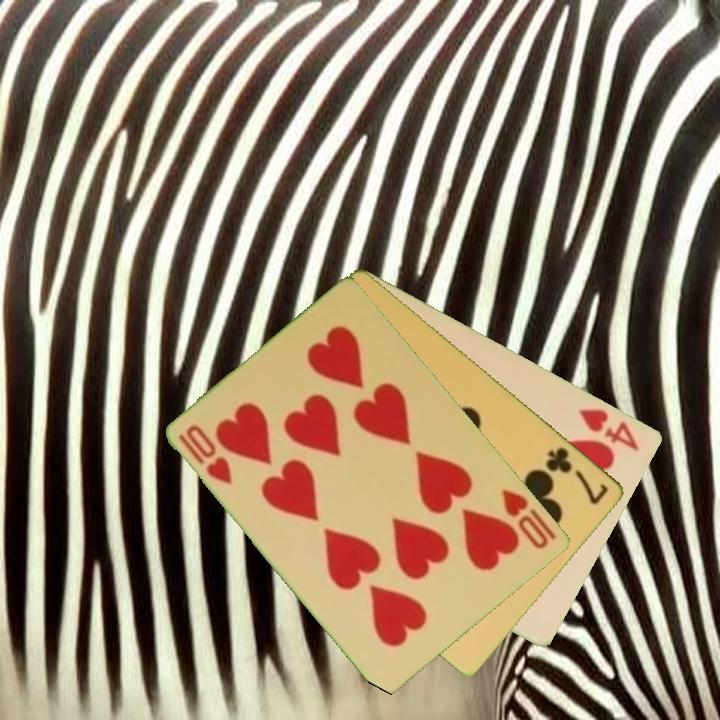10h: (498, 485, 560, 552), (175, 421, 236, 487)
4h: (575, 405, 643, 454)
7c: (543, 443, 612, 508)
